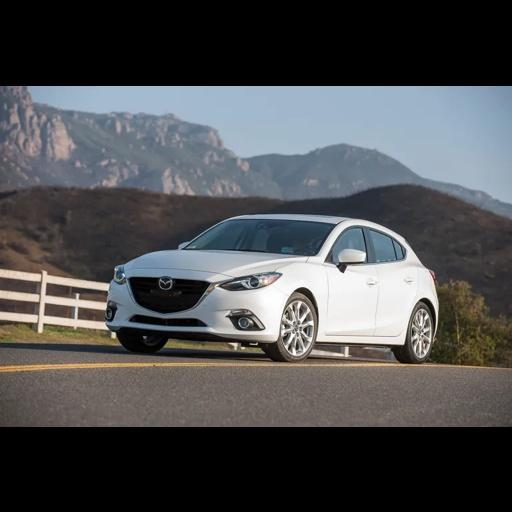hatchback: (105, 214, 438, 361)
